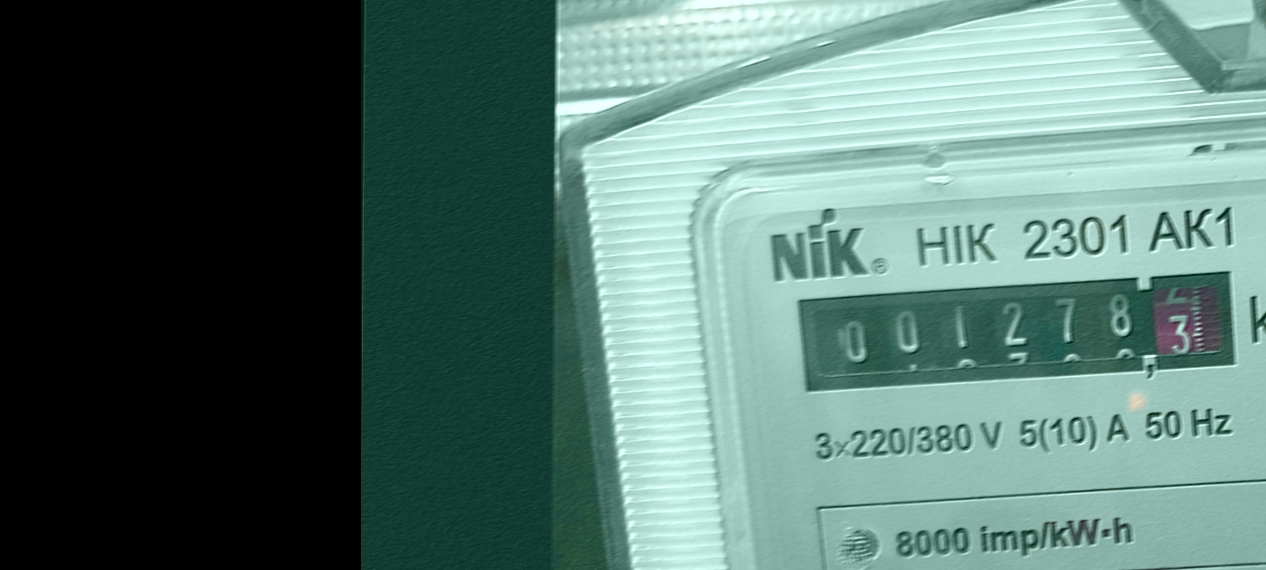0: (843, 316, 870, 364), (894, 308, 921, 355)
1: (952, 301, 971, 348)
2: (1001, 300, 1028, 347), (1165, 285, 1189, 305)
3: (1167, 312, 1194, 356)
7: (1054, 296, 1077, 343)
8: (1109, 292, 1134, 337)
screen: (784, 255, 1254, 407)
